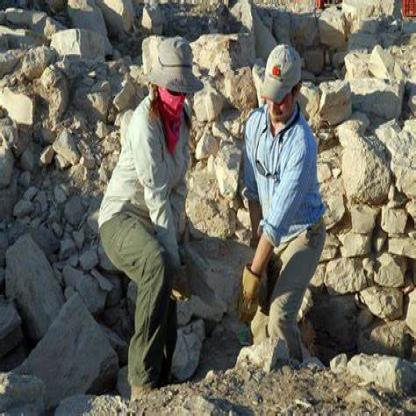person: (104, 37, 218, 392), (238, 37, 352, 375)
